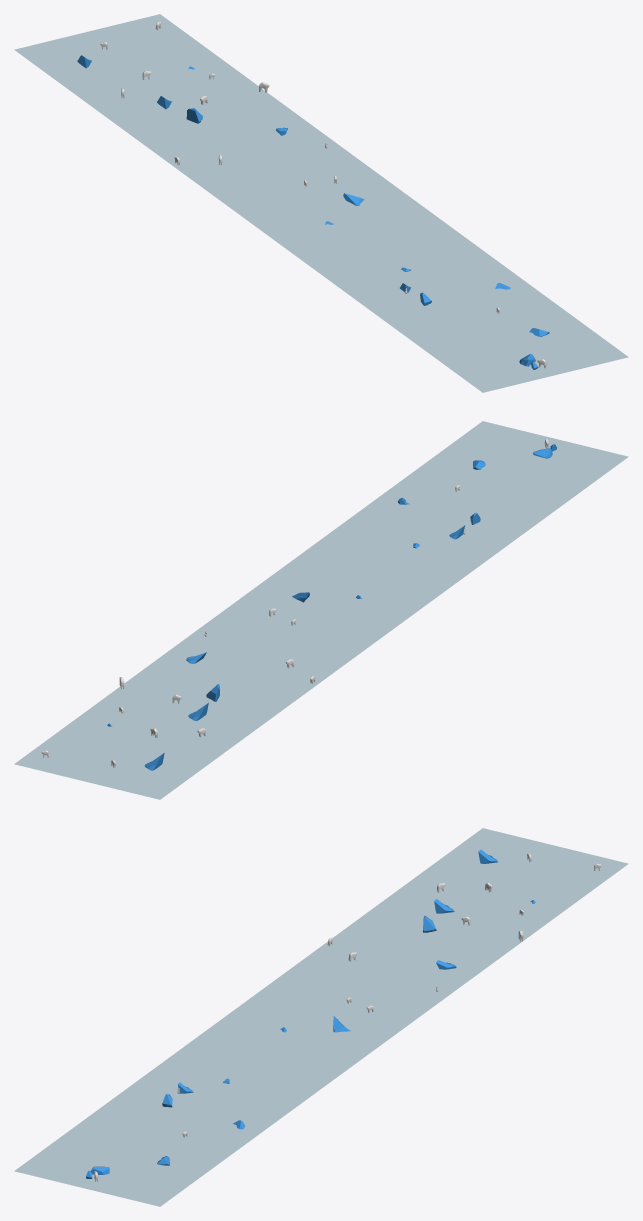
File: ice left chunk.fbx
The picture shows the model from 3 angles, top to bottom: view 1: azimuth 30°, elevation 25°; view 2: azimuth 150°, elevation 25°; view 3: azimuth 330°, elevation 25°; orthographic projection.
Parts seen in each view (by area): view 1: Plane.010; view 2: Plane.010; view 3: Plane.010.
Part boxes in pixels (left/top/right/bottom): Plane.010: left=14, top=14, right=628, bottom=392; Plane.010: left=14, top=421, right=628, bottom=799; Plane.010: left=14, top=828, right=628, bottom=1206.
Size of the model in its own units: 3643 by 761 by 20000.
